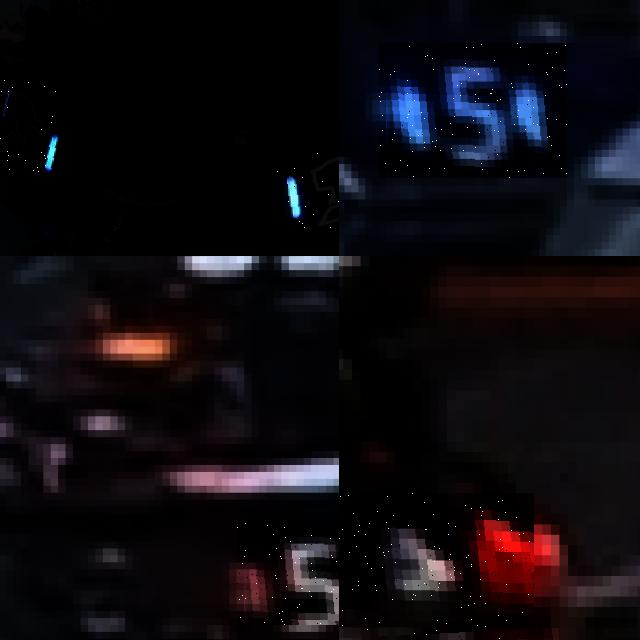B5: (379, 43, 567, 178)
Bs: (0, 77, 58, 178), (276, 145, 339, 232)
R3: (339, 493, 533, 627)
R5: (236, 520, 339, 625)
